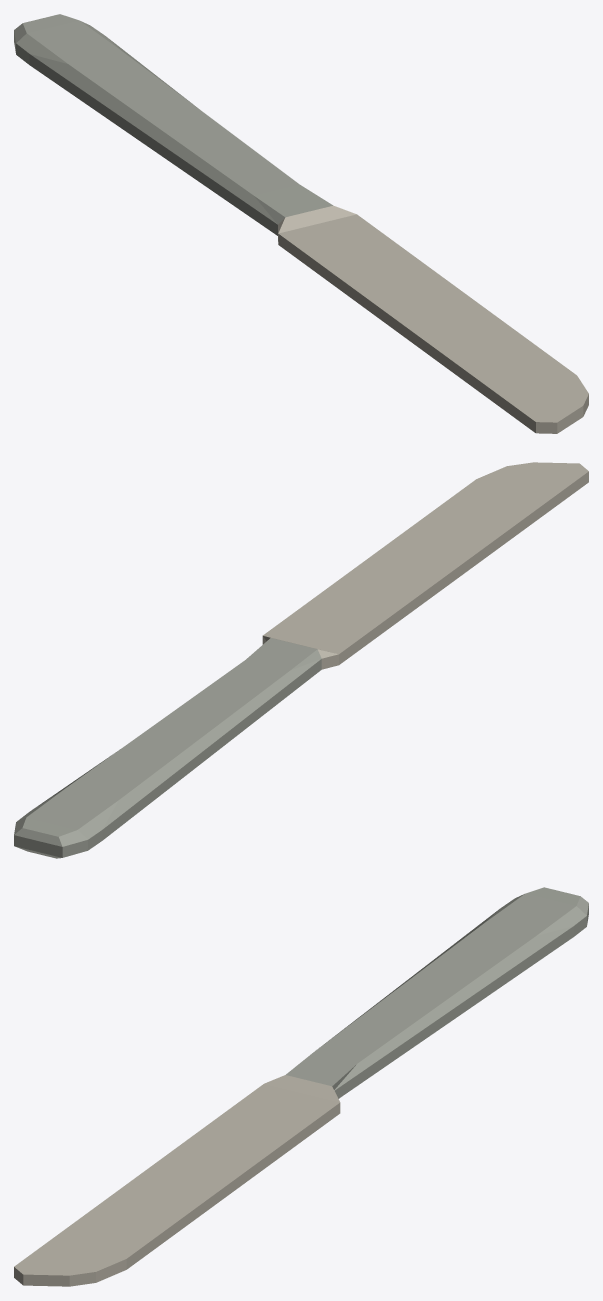
The model's file is Messer.fbx.
3 renders of one model, top to bottom at view 1: azimuth 30°, elevation 25°; view 2: azimuth 150°, elevation 25°; view 3: azimuth 330°, elevation 25°, orthographic. The views are drawn at different scales.
Parts seen in each view (by area): view 1: Messer; view 2: Messer; view 3: Messer.
Part boxes in pixels (x1=…): Messer: x1=14, y1=14, x2=588, y2=433; Messer: x1=14, y1=462, x2=588, y2=858; Messer: x1=14, y1=887, x2=588, y2=1286.
Size of the model in its own units: 114 by 34 by 1306.
